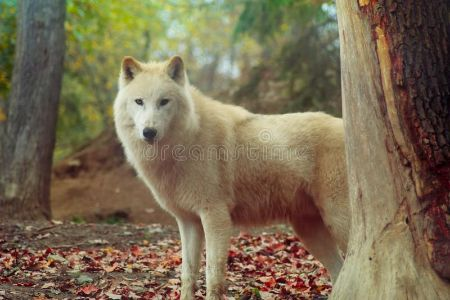wolf: (111, 51, 359, 295)
